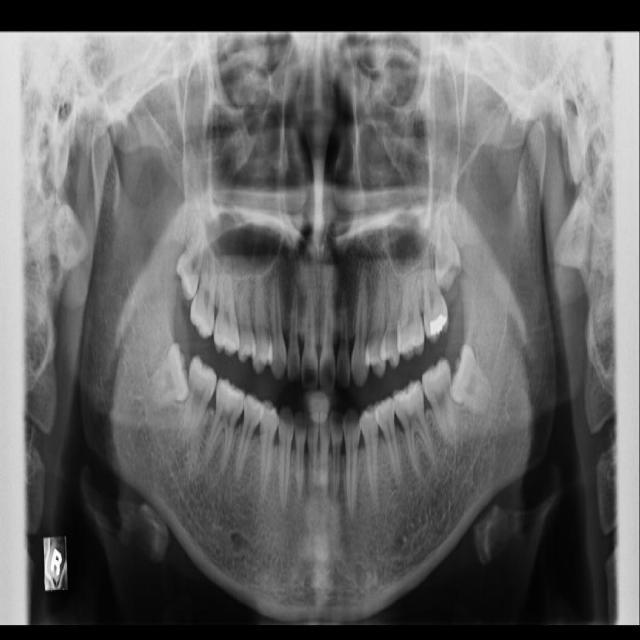3M ESPE Implant: (171, 197, 213, 301)
73: (630, 620, 636, 624)
BioHorizons Implant: (415, 229, 450, 343)
BioLife Implant: (430, 201, 463, 293)
Biomet 3i Implant: (443, 341, 506, 416)
Blue Sky Bio Implant: (418, 356, 464, 449)
Caries: (188, 236, 222, 339)
Implant: (180, 355, 220, 447)
Keystone Dental Implant: (139, 342, 192, 407)
